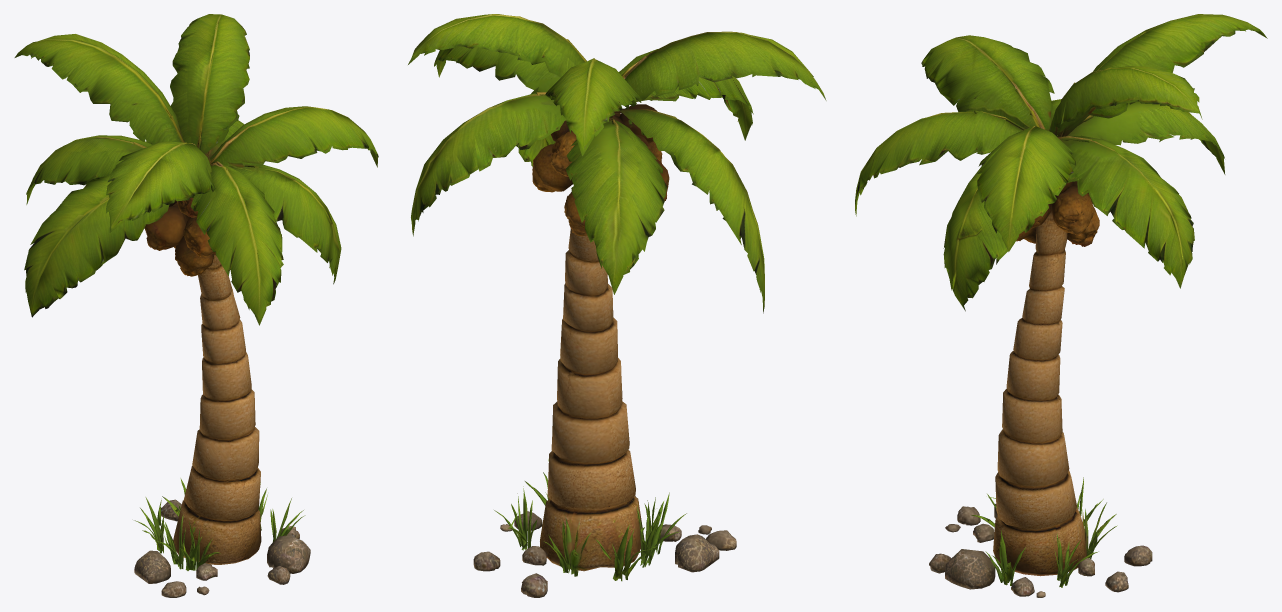
Rendered from palm_tree_1.glb.
3 renders of one model, left to right at view 1: azimuth 30°, elevation 25°; view 2: azimuth 150°, elevation 25°; view 3: azimuth 270°, elevation 25°, orthographic. The views are drawn at different scales.
Visible parts, largest first — view 1: tripo_part_0, tripo_part_9, tripo_part_8, tripo_part_12, tripo_part_4, tripo_part_11, tripo_part_5, tripo_part_7, tripo_part_10, tripo_part_14, tripo_part_15, tripo_part_30 (+2 smaller); view 2: tripo_part_0, tripo_part_10, tripo_part_5, tripo_part_6, tripo_part_9, tripo_part_8, tripo_part_4, tripo_part_11, tripo_part_12, tripo_part_30, tripo_part_17, tripo_part_19; view 3: tripo_part_0, tripo_part_6, tripo_part_5, tripo_part_11, tripo_part_12, tripo_part_4, tripo_part_8, tripo_part_7, tripo_part_10, tripo_part_14, tripo_part_17.
Part boxes in pixels (x1,y1,x2,y2): tripo_part_0: (173, 214, 261, 564); tripo_part_9: (24, 173, 169, 317); tripo_part_8: (170, 14, 249, 154); tripo_part_12: (191, 163, 283, 325); tripo_part_4: (14, 34, 183, 144); tripo_part_11: (210, 106, 378, 167); tripo_part_5: (106, 141, 215, 232); tripo_part_7: (210, 162, 341, 284); tripo_part_10: (26, 135, 152, 204); tripo_part_14: (267, 535, 310, 573); tripo_part_15: (144, 206, 185, 250); tripo_part_30: (134, 550, 170, 583); tripo_part_0: (540, 115, 644, 571); tripo_part_10: (566, 117, 666, 294); tripo_part_5: (624, 31, 826, 100); tripo_part_6: (411, 93, 566, 236); tripo_part_9: (620, 108, 764, 313); tripo_part_8: (408, 14, 585, 77); tripo_part_4: (545, 58, 641, 156); tripo_part_11: (434, 46, 560, 92); tripo_part_12: (619, 49, 753, 140); tripo_part_30: (675, 534, 719, 572); tripo_part_17: (532, 144, 572, 192); tripo_part_19: (550, 130, 576, 176); tripo_part_0: (993, 182, 1088, 576); tripo_part_6: (1057, 135, 1194, 288); tripo_part_5: (921, 35, 1054, 131); tripo_part_11: (977, 126, 1075, 251); tripo_part_12: (855, 111, 1022, 216); tripo_part_4: (1057, 14, 1267, 136); tripo_part_8: (1049, 66, 1202, 135); tripo_part_7: (943, 167, 1007, 311); tripo_part_10: (1067, 101, 1225, 174); tripo_part_14: (945, 549, 995, 589); tripo_part_17: (1051, 186, 1093, 234).
Bounding box in the file's own units: 0.6751 × 1 × 0.7202.
Materials: 1 (1 with a texture image).
